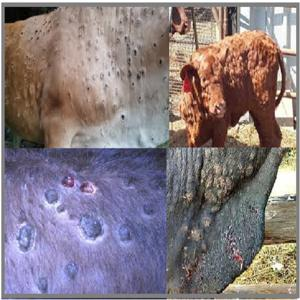lumpy skin diesease: (4, 5, 190, 148), (178, 29, 286, 147)
